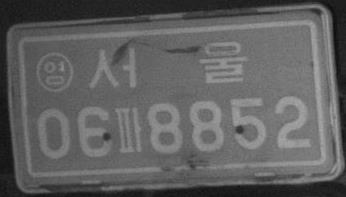0: (36, 106, 71, 159)
2: (274, 94, 311, 149)
5: (230, 97, 266, 150)
6: (76, 105, 113, 157)
8: (188, 98, 224, 153), (147, 101, 184, 154)
서울_D: (87, 39, 247, 90)
영: (35, 51, 73, 92)
파: (113, 106, 142, 153)
